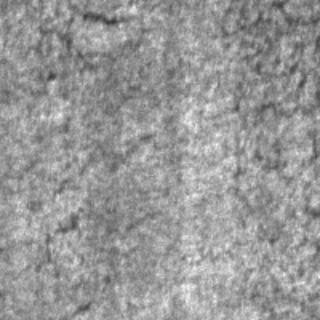crazing: (197, 3, 317, 257), (7, 124, 163, 316), (4, 2, 152, 98)
